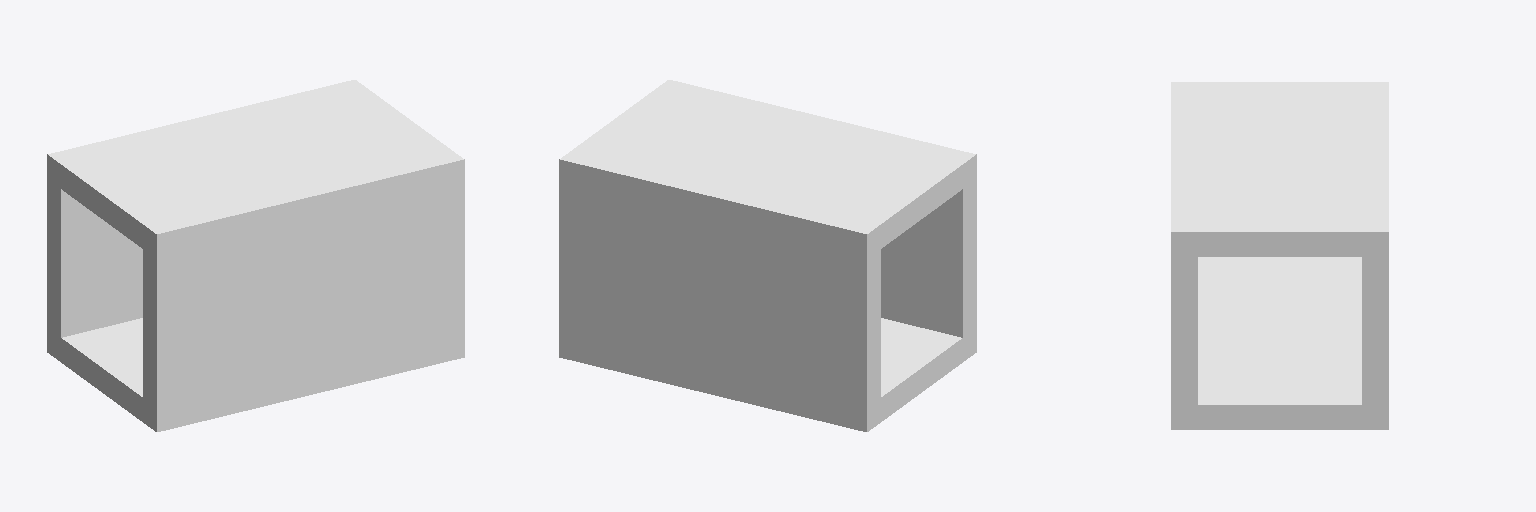
File: humanoid-57.obj
The picture shows the model from 3 angles: view 1: azimuth 30°, elevation 25°; view 2: azimuth 150°, elevation 25°; view 3: azimuth 270°, elevation 25°; orthographic projection.
Visible parts, largest first — view 1: humanoid-57; view 2: humanoid-57; view 3: humanoid-57.
Part boxes in pixels (x1,y1,x2,y2): humanoid-57: (47, 80, 464, 431); humanoid-57: (559, 80, 976, 431); humanoid-57: (1171, 82, 1388, 429).
Size of the model in its own units: 13 by 8 by 8.